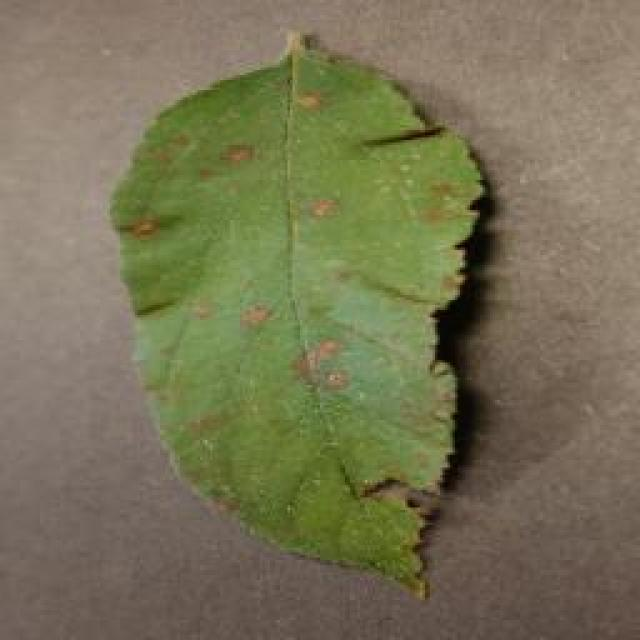apple cedar apple rust: (108, 28, 492, 600)
